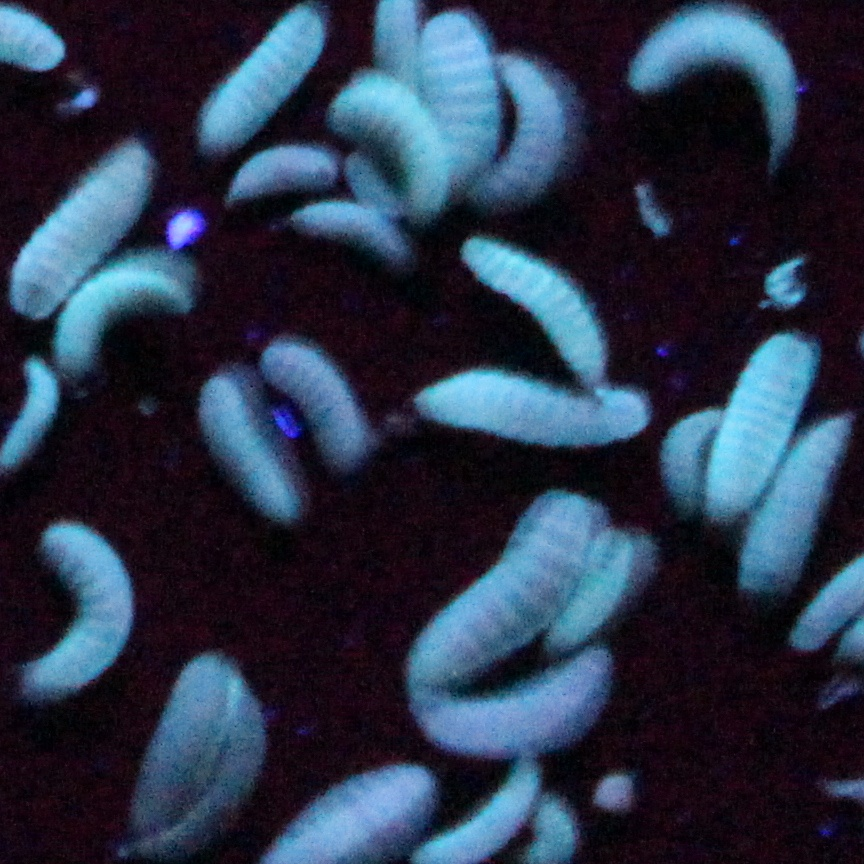larve: (410, 504, 590, 683), (626, 0, 795, 145), (10, 136, 142, 307), (14, 521, 132, 698), (711, 336, 816, 526), (744, 421, 851, 596), (465, 238, 606, 369), (410, 369, 651, 442), (197, 373, 303, 530), (205, 7, 321, 150), (55, 267, 194, 384), (138, 658, 225, 828), (334, 80, 441, 207), (424, 670, 605, 743), (271, 342, 371, 463), (418, 17, 495, 171), (494, 52, 568, 210), (553, 535, 645, 641), (297, 204, 404, 268), (226, 144, 333, 204), (663, 405, 714, 504)
